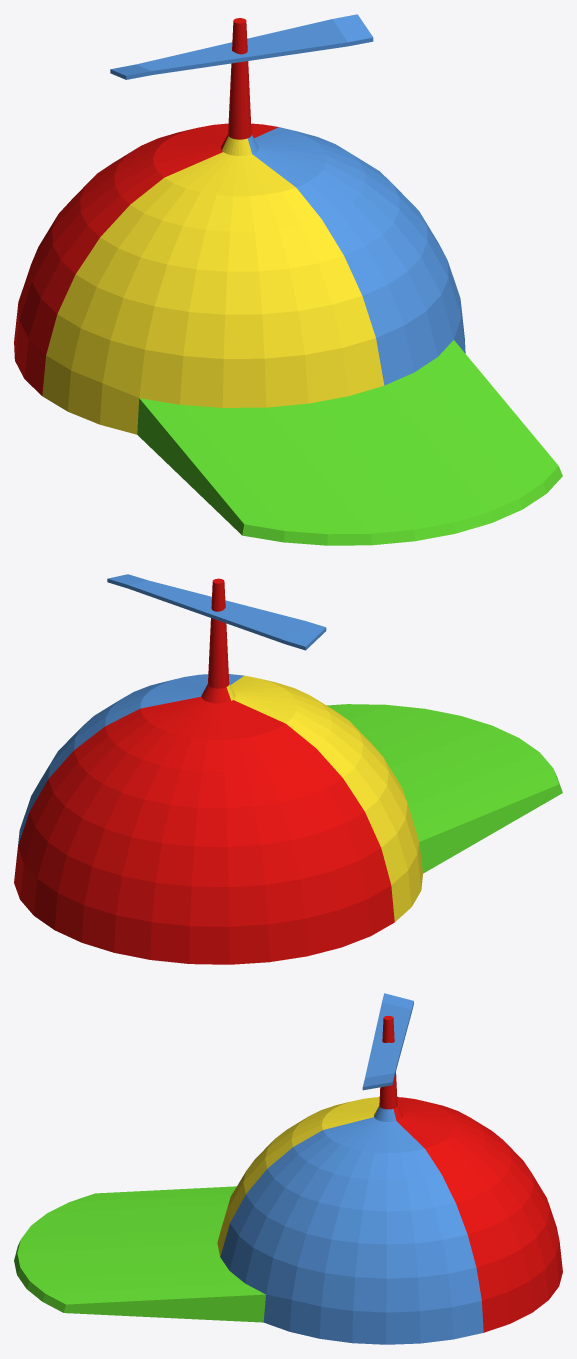
Rendered from HelicopterHat.fbx.
The picture shows the model from 3 angles, top to bottom: view 1: azimuth 30°, elevation 25°; view 2: azimuth 150°, elevation 25°; view 3: azimuth 270°, elevation 25°; orthographic projection. The views are drawn at different scales.
Visible parts, largest first — view 1: Helicopter Cap; view 2: Helicopter Cap; view 3: Helicopter Cap.
Boxes of the visible parts, x1,y1,x2,y2 form: Helicopter Cap: (14, 14, 562, 545); Helicopter Cap: (14, 574, 562, 964); Helicopter Cap: (14, 993, 562, 1344).
Bounding box in the file's own units: 47.92 × 38.35 × 75.39.
